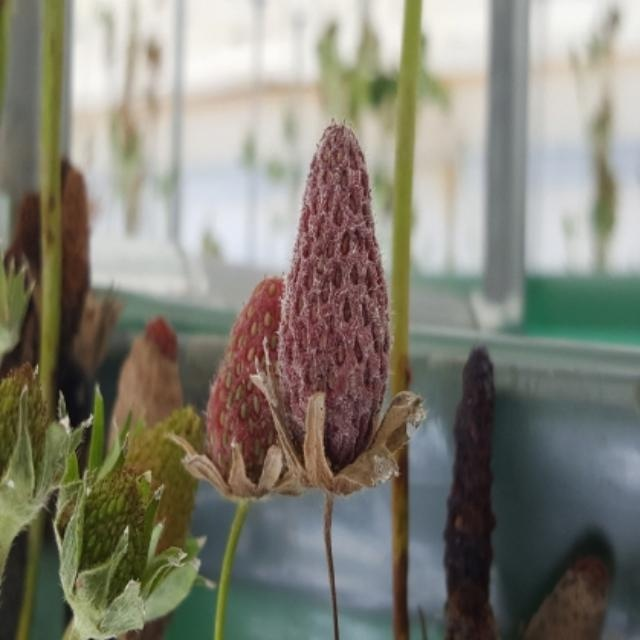Powdery Mildew Fruit: (261, 122, 393, 487), (182, 275, 298, 500)
